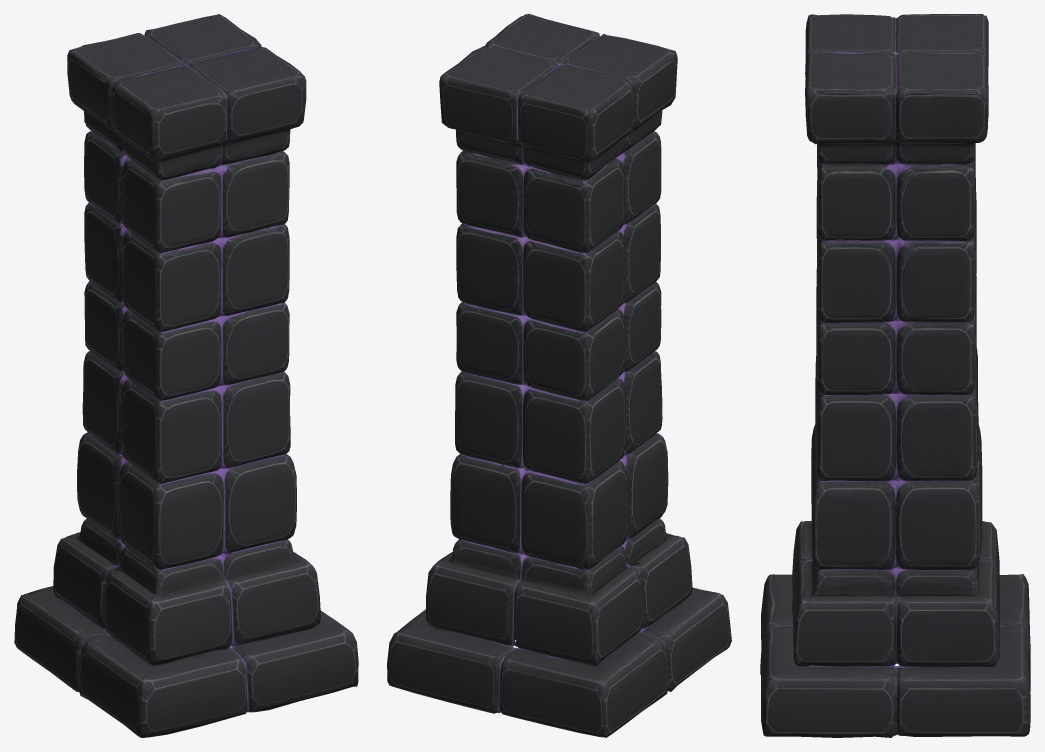
Rendered from wall_pillar_meshy.glb.
The picture shows the model from 3 angles, left to right: view 1: azimuth 30°, elevation 25°; view 2: azimuth 150°, elevation 25°; view 3: azimuth 270°, elevation 25°; orthographic projection. The views are drawn at different scales.
Parts seen in each view (by area): view 1: mesh_node; view 2: mesh_node; view 3: mesh_node.
Boxes of the visible parts, bbox=[...] form: mesh_node: bbox=[14, 14, 358, 737]; mesh_node: bbox=[387, 14, 731, 737]; mesh_node: bbox=[760, 14, 1030, 737].
Size of the model in its own units: 0.3818 by 1 by 0.3887.
1 material, 1 textured.
